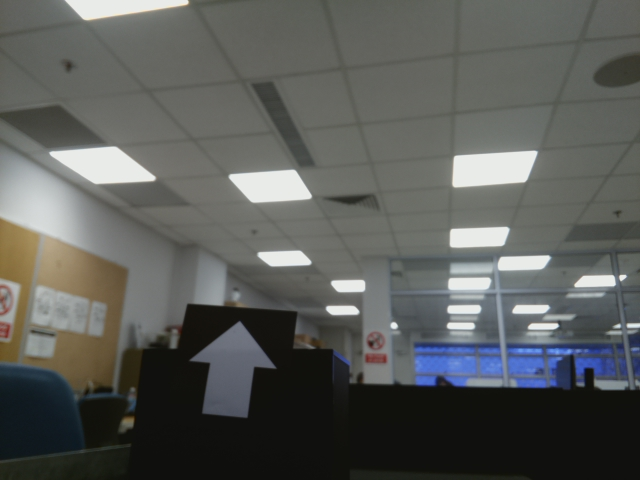up: (195, 316, 277, 431)
